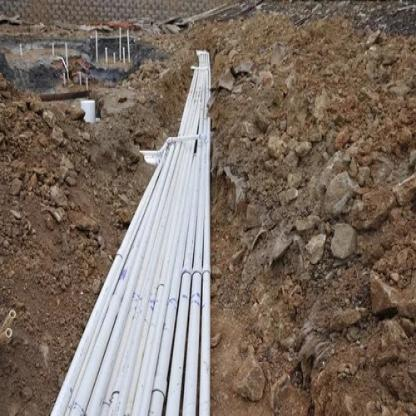PVC: (50, 50, 210, 415), (52, 43, 69, 81), (127, 30, 130, 62), (95, 31, 98, 61), (119, 28, 121, 62), (20, 44, 23, 56), (113, 53, 116, 64), (105, 48, 107, 64), (123, 48, 125, 64)
